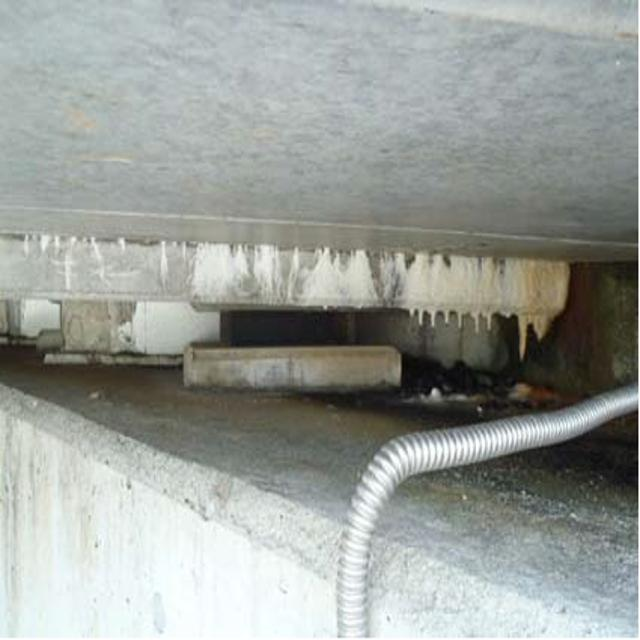freelime: (188, 239, 582, 324)
